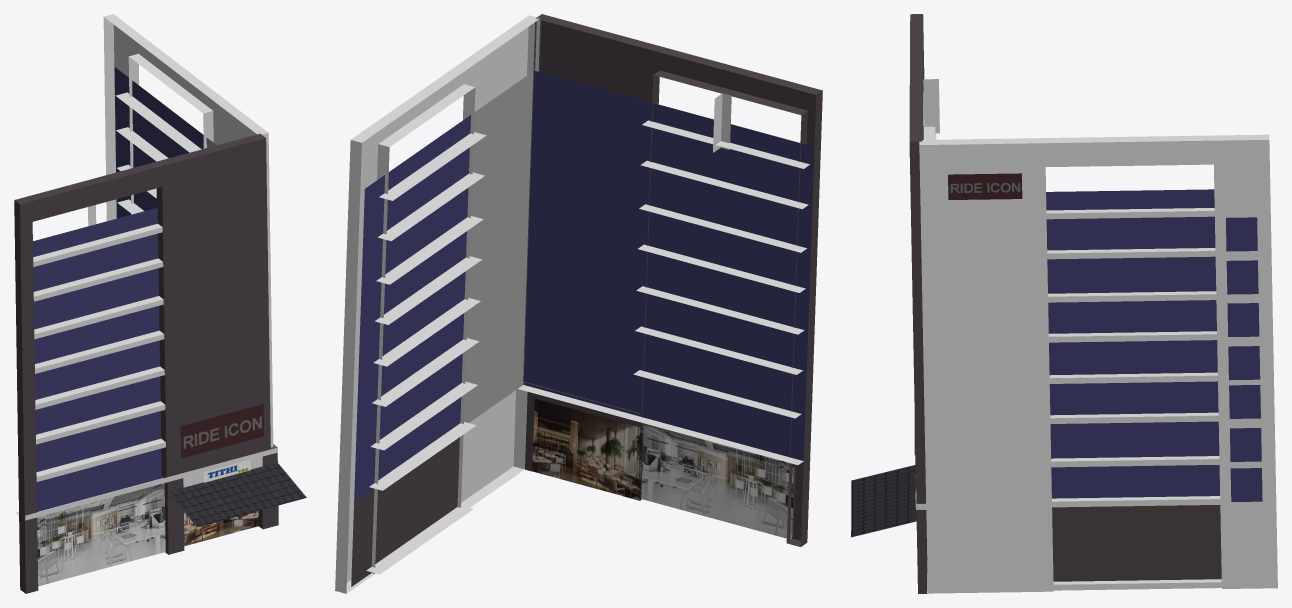
Rendered from Pride ICON fbx.fbx.
3 views of the same model, side by side, from view 1: azimuth 30°, elevation 25°; view 2: azimuth 150°, elevation 25°; view 3: azimuth 270°, elevation 25° (orthographic). The views are drawn at different scales.
Parts seen in each view (by area): view 1: polySurface39, polySurface48, polySurface67, polySurface49, polySurface62, polySurface64, polySurface38, polySurface55, polySurface50, polySurface40, polySurface37, polySurface51 (+1 smaller); view 2: polySurface48, polySurface62, polySurface39, polySurface55, polySurface49, polySurface67, polySurface37, polySurface40, polySurface50; view 3: polySurface62, polySurface48, polySurface55, polySurface39, polySurface64, polySurface61, polySurface41, polySurface47, polySurface43, polySurface44, polySurface45, polySurface46 (+3 smaller).
Boxes of the visible parts, bbox=[...] form: polySurface39: bbox=[14, 133, 270, 593]; polySurface48: bbox=[33, 67, 216, 511]; polySurface67: bbox=[14, 205, 165, 481]; polySurface49: bbox=[37, 483, 165, 586]; polySurface62: bbox=[103, 14, 273, 447]; polySurface64: bbox=[168, 462, 306, 527]; polySurface38: bbox=[180, 404, 263, 458]; polySurface55: bbox=[115, 92, 201, 214]; polySurface50: bbox=[163, 456, 262, 554]; polySurface40: bbox=[15, 444, 277, 520]; polySurface37: bbox=[184, 511, 258, 545]; polySurface51: bbox=[258, 447, 278, 529]; polySurface48: bbox=[351, 70, 814, 586]; polySurface62: bbox=[335, 15, 540, 593]; polySurface39: bbox=[523, 14, 822, 546]; polySurface55: bbox=[366, 132, 486, 574]; polySurface49: bbox=[641, 423, 794, 539]; polySurface67: bbox=[633, 93, 809, 418]; polySurface37: bbox=[532, 399, 642, 500]; polySurface40: bbox=[518, 385, 803, 464]; polySurface50: bbox=[533, 393, 643, 500]; polySurface62: bbox=[919, 134, 1277, 593]; polySurface48: bbox=[1046, 189, 1221, 581]; polySurface55: bbox=[1046, 208, 1221, 590]; polySurface39: bbox=[909, 14, 925, 502]; polySurface64: bbox=[851, 465, 916, 537]; polySurface61: bbox=[948, 173, 1022, 199]; polySurface41: bbox=[1226, 217, 1257, 251]; polySurface47: bbox=[1226, 260, 1258, 294]; polySurface43: bbox=[1230, 428, 1261, 461]; polySurface44: bbox=[1229, 385, 1260, 418]; polySurface45: bbox=[1228, 346, 1260, 380]; polySurface46: bbox=[1227, 303, 1259, 336].
Bounding box in the file's own units: 19.16 × 28.1 × 23.76.
